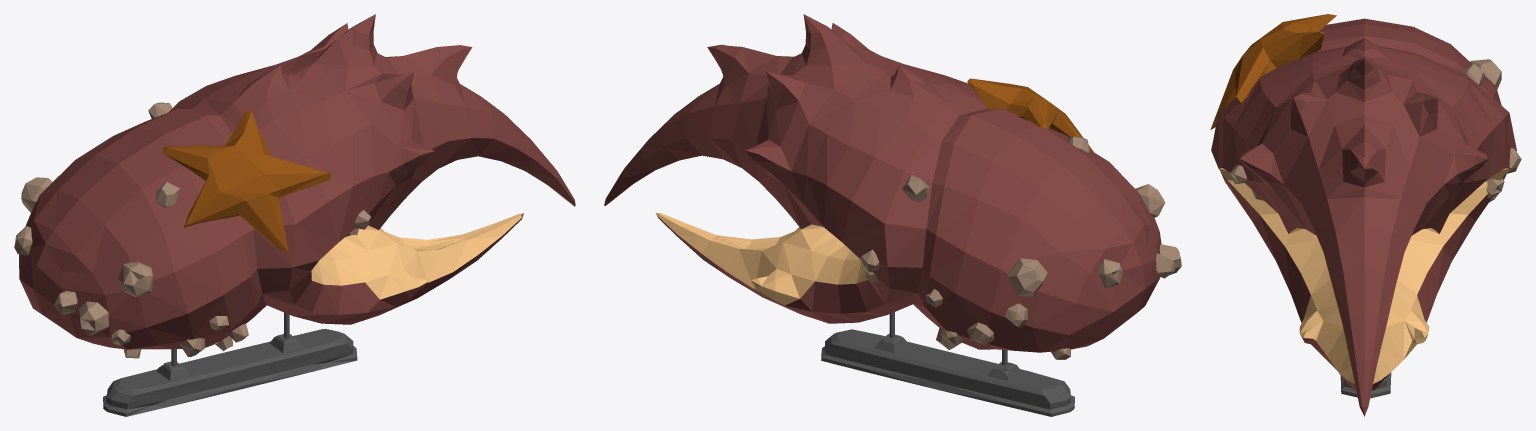
File: Crab_Claw_006.fbx
3 views of the same model, side by side, from view 1: azimuth 30°, elevation 25°; view 2: azimuth 150°, elevation 25°; view 3: azimuth 270°, elevation 25° (orthographic). The views are drawn at different scales.
Visible parts, largest first — view 1: Crab_Claw_006; view 2: Crab_Claw_006; view 3: Crab_Claw_006.
Part boxes in pixels (bbox=[...]): Crab_Claw_006: bbox=[14, 14, 575, 416]; Crab_Claw_006: bbox=[604, 14, 1181, 416]; Crab_Claw_006: bbox=[1210, 14, 1521, 416].
Bounding box in the file's own units: 1.67 × 0.972 × 0.7843.
